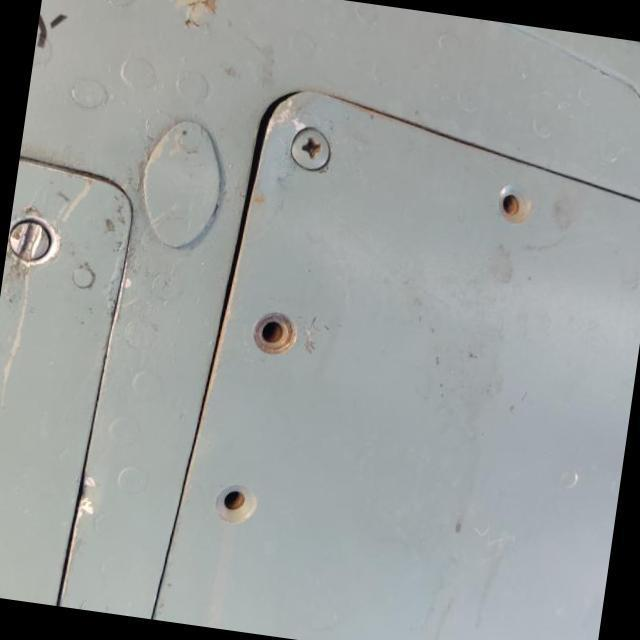Fastener Damage: (224, 286, 326, 391), (464, 150, 566, 254), (192, 463, 285, 555)
